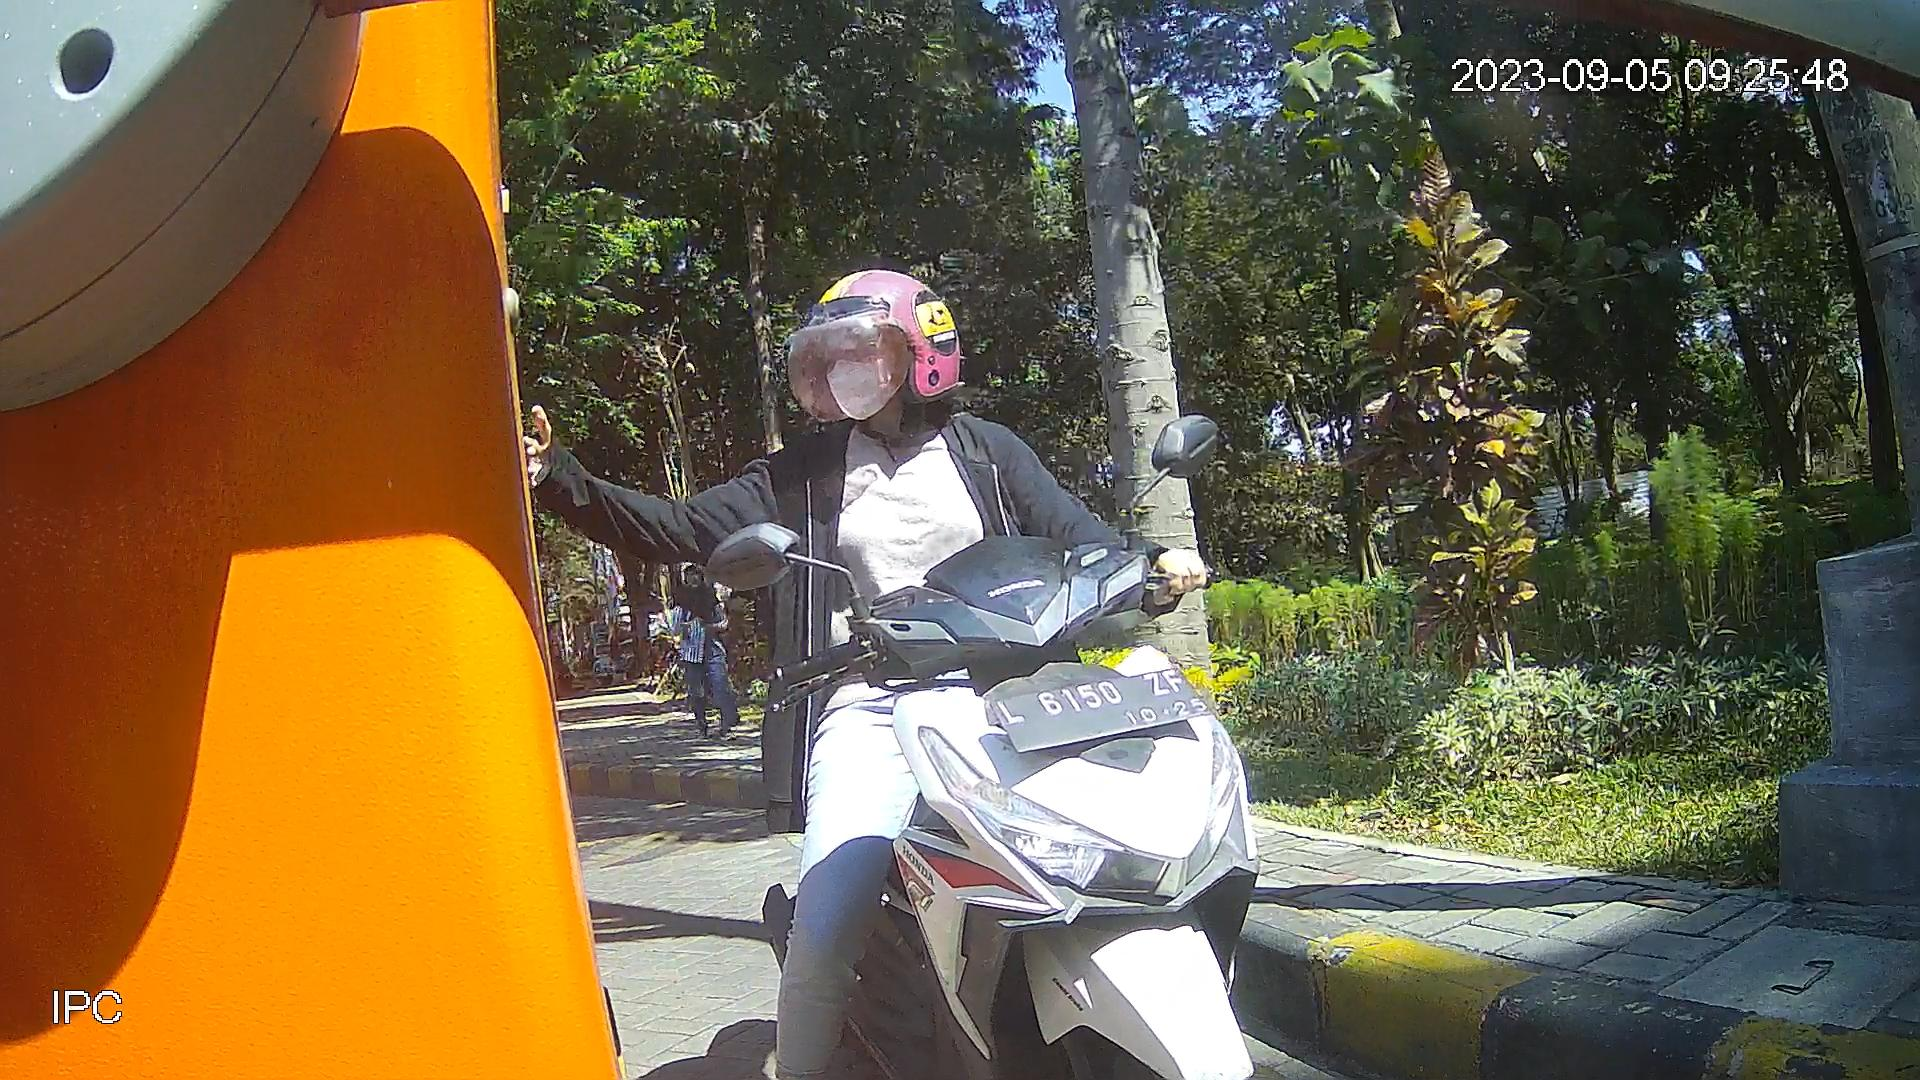plat: (986, 666, 1217, 756)
